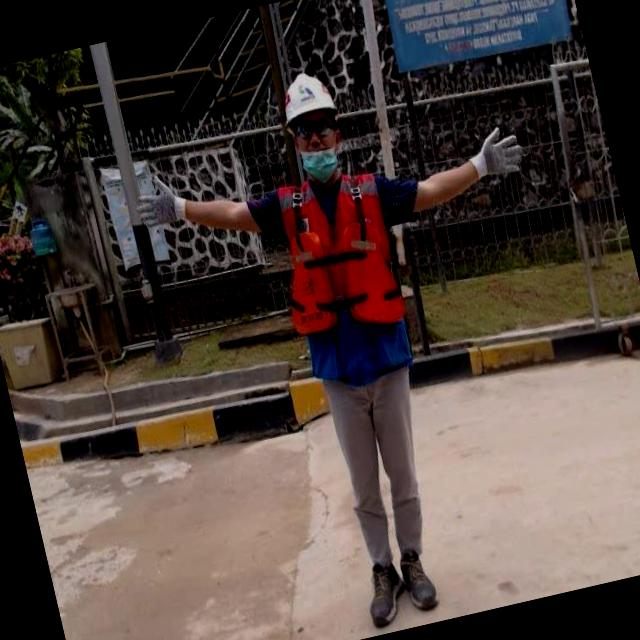boots: (356, 556, 411, 630), (394, 543, 441, 615)
gloves: (461, 115, 534, 184), (127, 170, 193, 234)
helmet: (272, 63, 352, 186)
vest: (261, 166, 415, 388)
